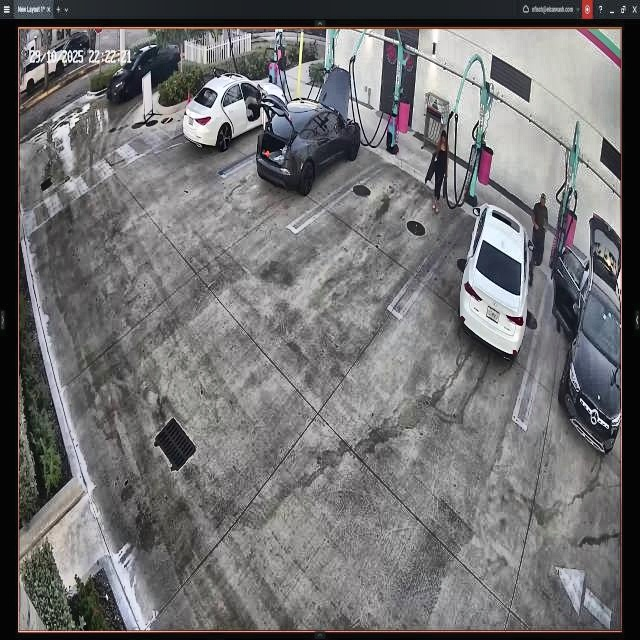Car: (454, 198, 537, 362), (258, 70, 362, 198), (182, 76, 285, 152)
